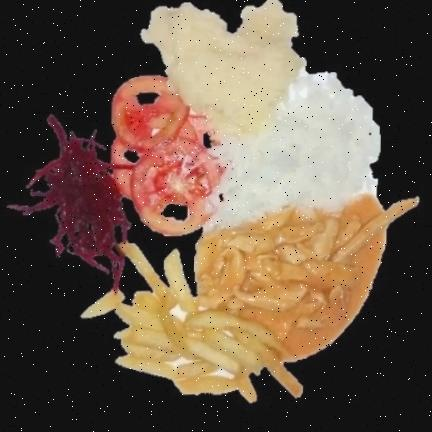beet: (10, 114, 129, 290)
chicken: (196, 196, 418, 359)
potato: (116, 243, 302, 399), (142, 0, 305, 135)
rice: (206, 70, 380, 229)
tomato: (112, 75, 222, 234)
